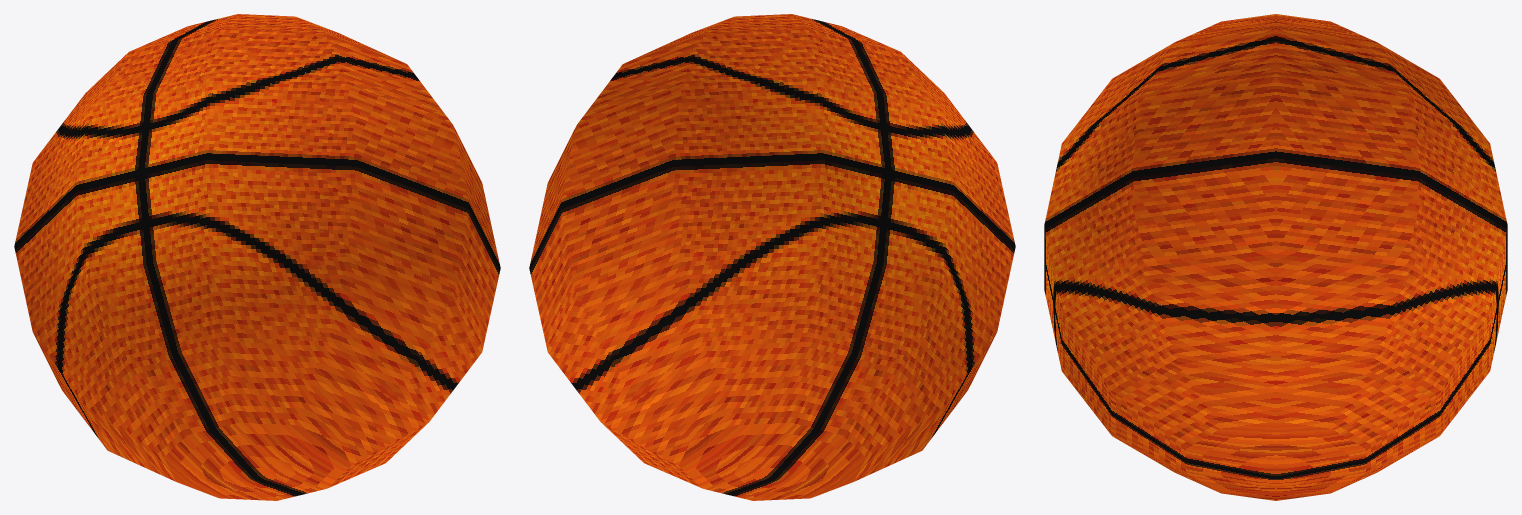
The model's file is ps2_save-icons_backyardbasketball.glb.
3 renders of one model, left to right at view 1: azimuth 30°, elevation 25°; view 2: azimuth 150°, elevation 25°; view 3: azimuth 270°, elevation 25°, orthographic.
Parts seen in each view (by area): view 1: byb.ico; view 2: byb.ico; view 3: byb.ico.
Boxes of the visible parts, x1,y1,x2,y2 form: byb.ico: (14,14,500,500); byb.ico: (529,14,1015,500); byb.ico: (1044,14,1507,500).
Size of the model in its own units: 4.25 by 4.25 by 4.04.
1 material, 1 textured.
